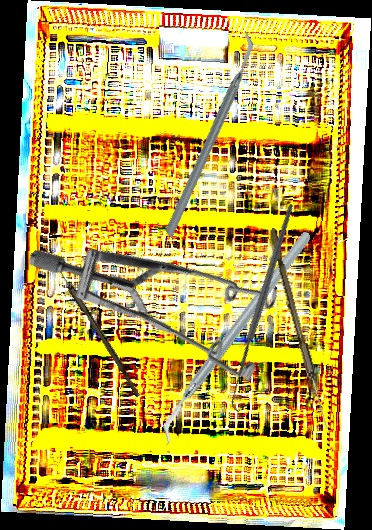Chopper: (107, 229, 365, 446), (102, 30, 315, 239)
Hook Surgical: (158, 203, 371, 413)
Speculum: (24, 147, 313, 444)
Surgical Spoon: (41, 246, 144, 398), (265, 227, 333, 431)
